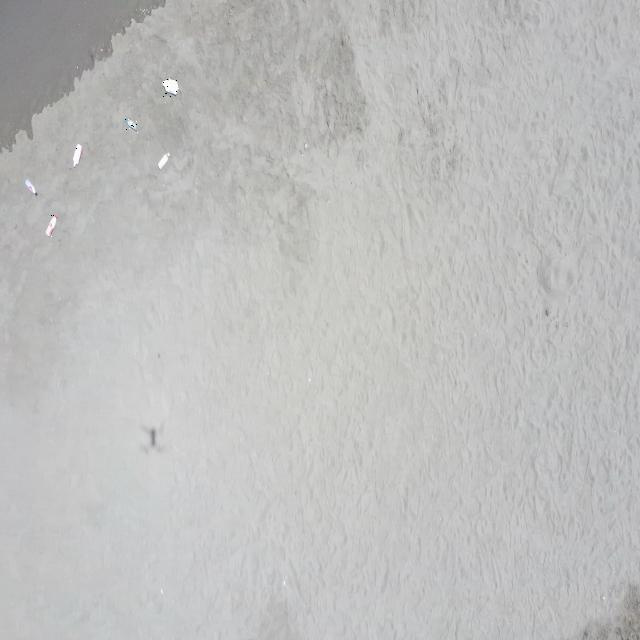Garbage: (162, 77, 178, 95), (44, 213, 55, 236), (24, 179, 35, 195), (158, 151, 169, 167), (72, 144, 80, 166), (124, 116, 135, 129)
